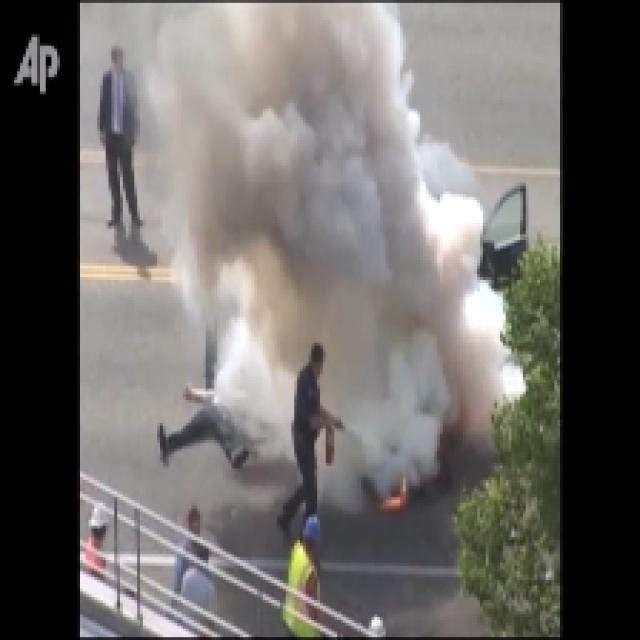Smoke: (257, 122, 440, 318)
